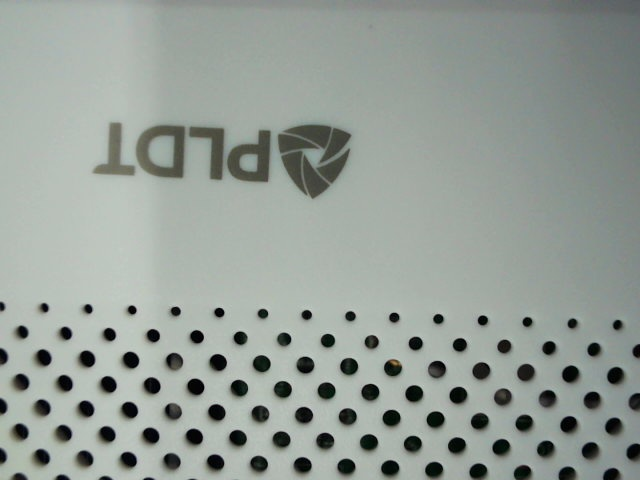BH_PLDT: (86, 106, 361, 208)
